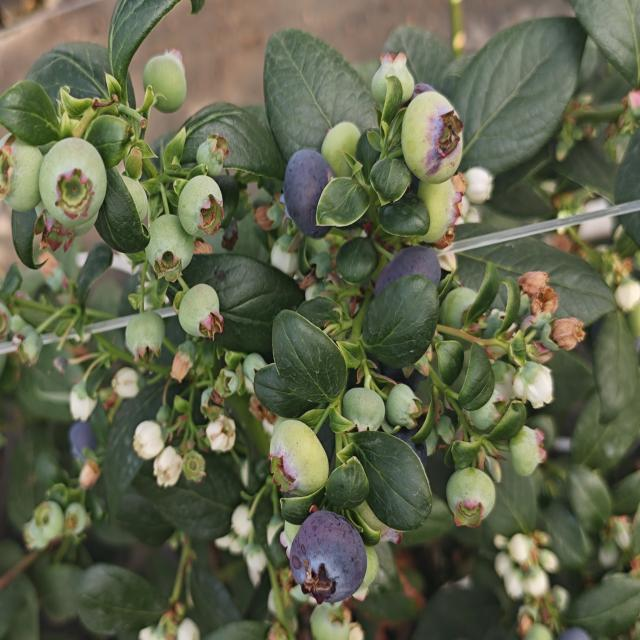ripe: (282, 508, 372, 602), (365, 238, 447, 312), (277, 145, 333, 242), (57, 406, 111, 476)
